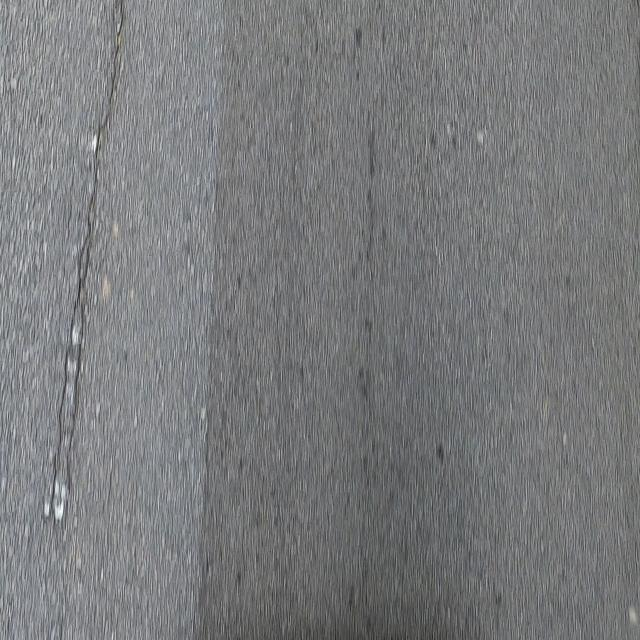Retak-Memanjang: (41, 1, 127, 532)
